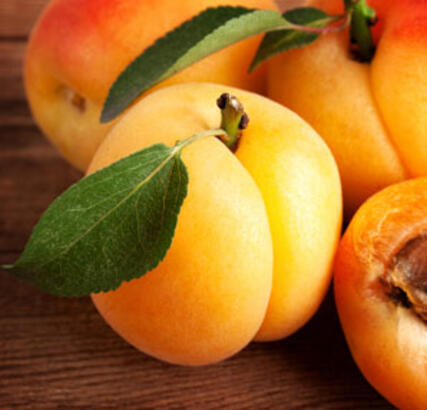Apricot: (85, 81, 344, 374)
